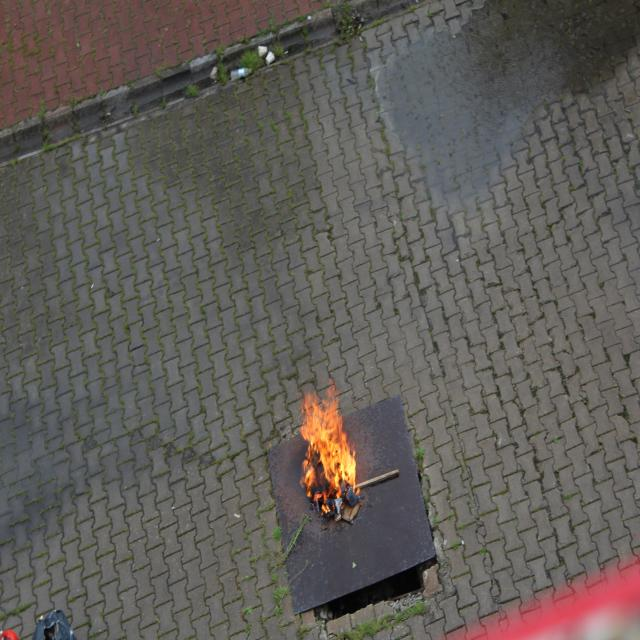fire: (297, 386, 358, 516)
